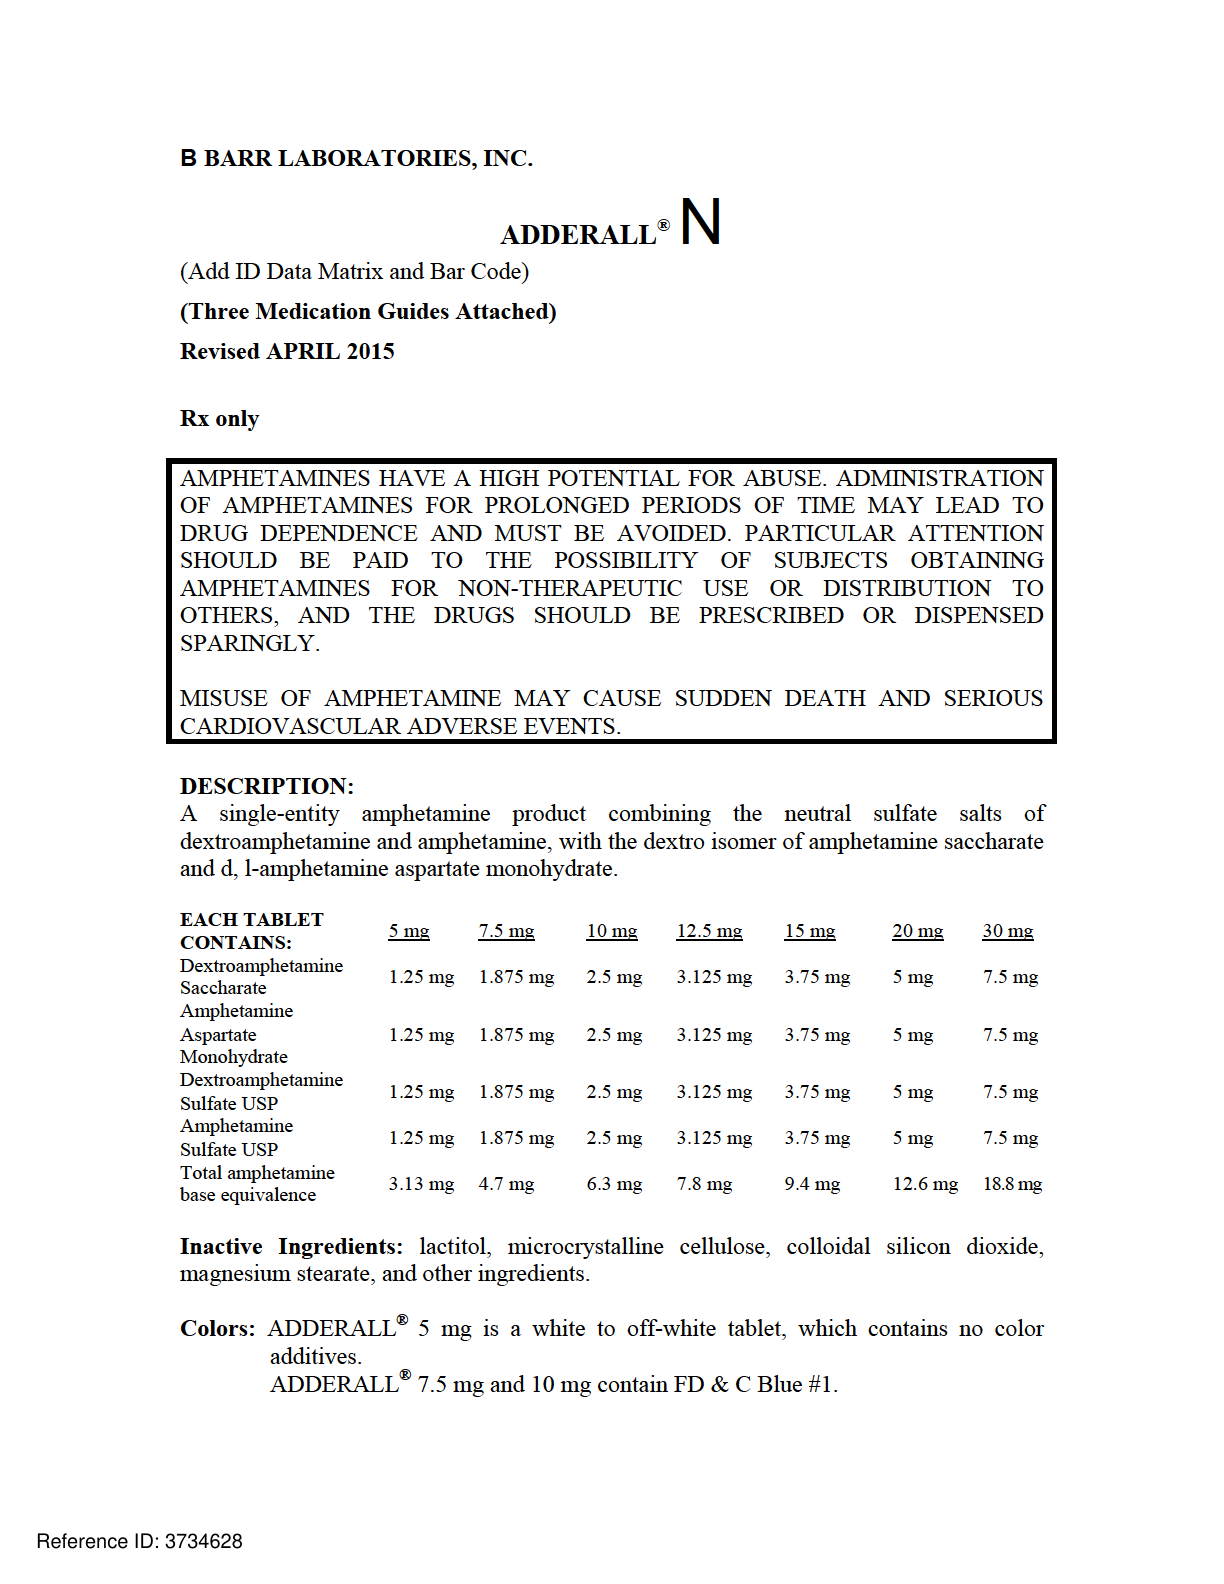nolines: (172, 910, 1058, 1205)
